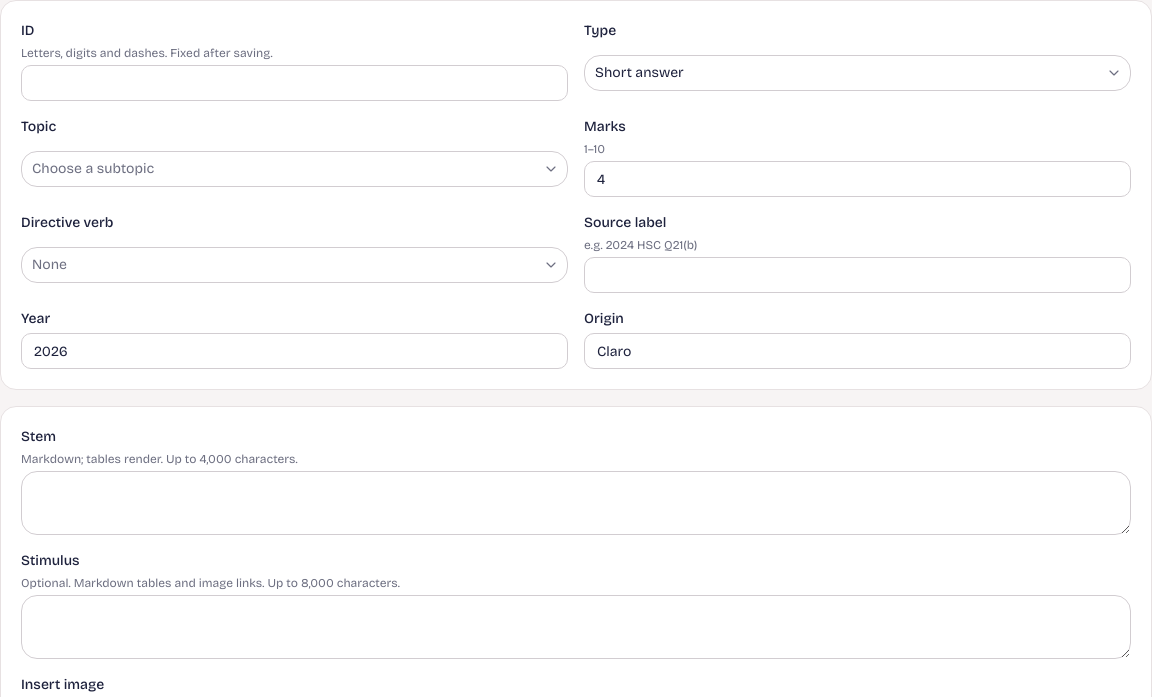
Test case: only shows Saved after a successful save, allowing retry after failure
Step 1. Type "new-question" into the field labelled "ID" → (294, 83), box [21,65,568,101]
Step 2. Type "Claro" into the field labelled "Source label" → (858, 275), box [584,257,1131,293]
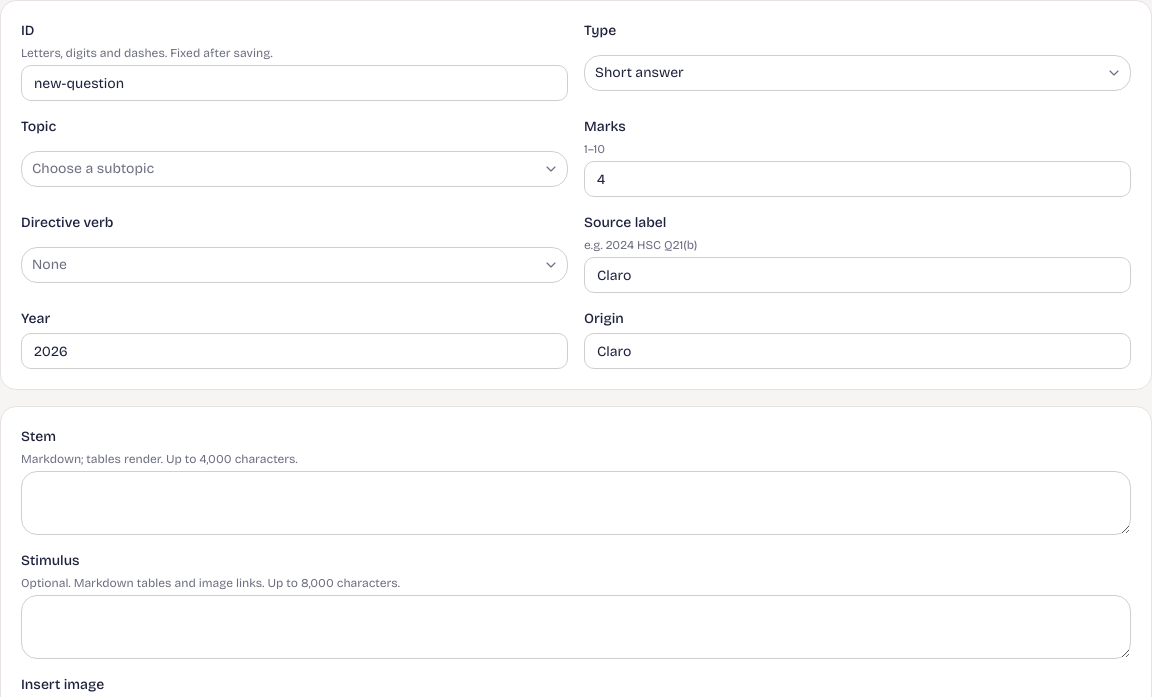
Step 3. Type "Explain inflation" into the text box labelled "Stem" → (576, 503), box [21,471,1131,535]
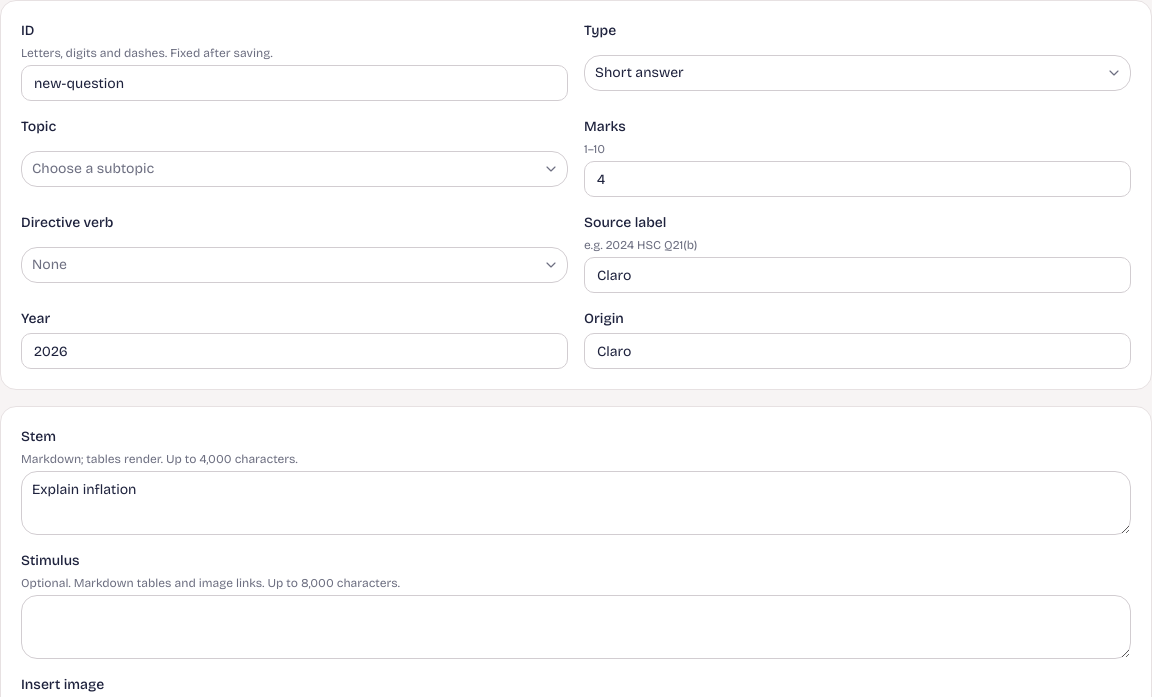
Step 4. Click the dropdown labelled "topic" → (93, 168), box [21,151,568,187]
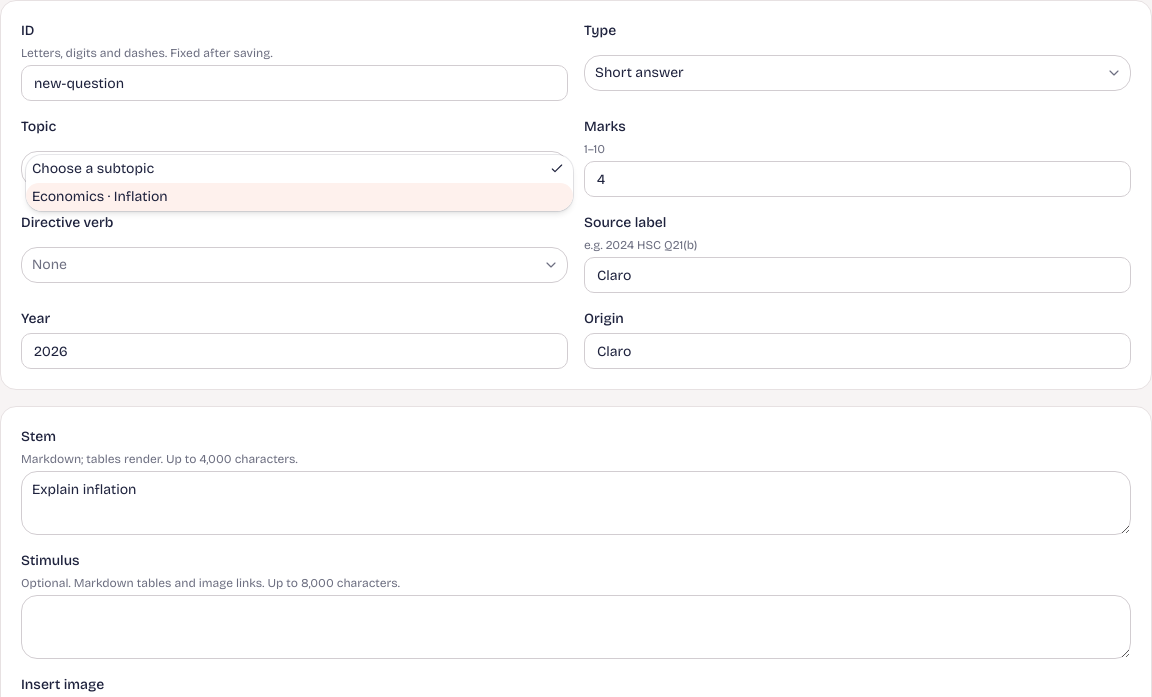
Step 5. Click the option "Economics · Inflation" → (100, 196), box [26,183,573,211]
(page scrolled)
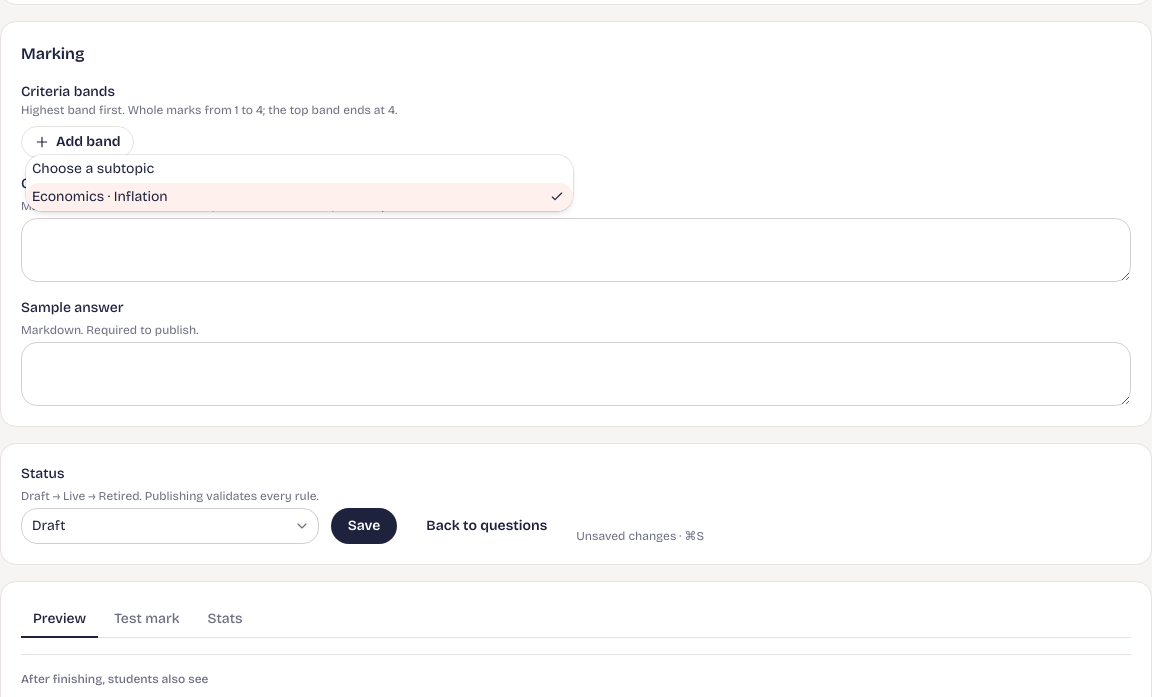
Step 6. Click the button "Save" → (364, 526), box [331,508,397,544]
(page scrolled)
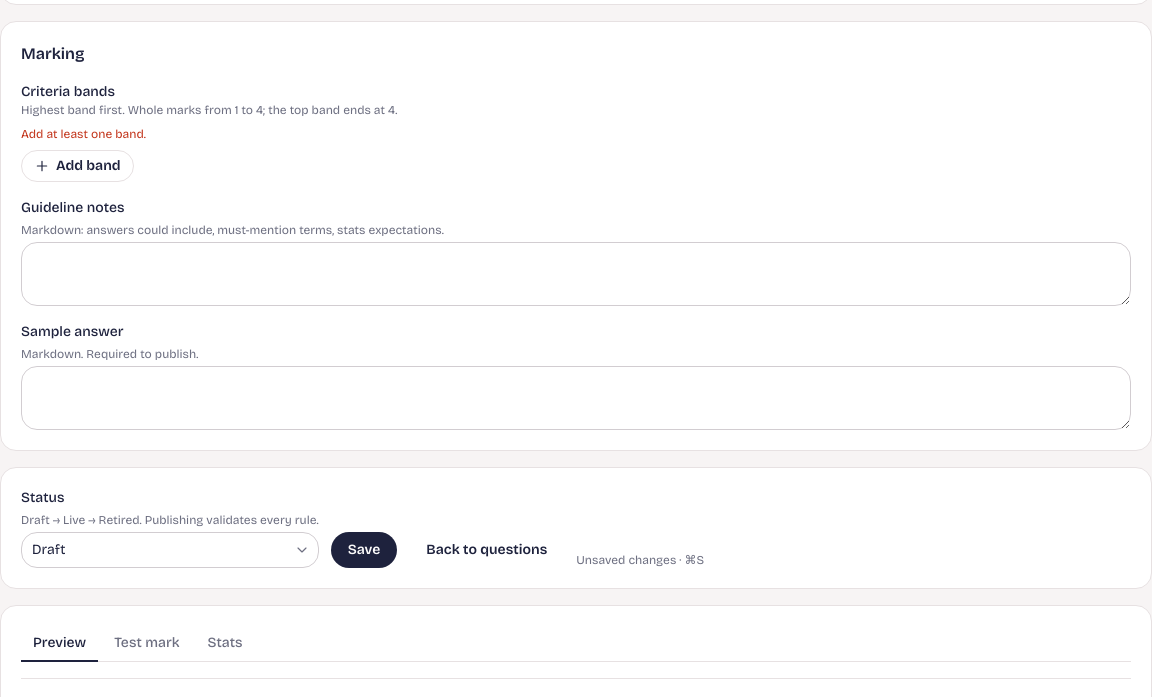
Expected: the text "Saved · ⌘S" is not shown
Step 7. Click the button "Save" → (364, 550), box [331,532,397,568]
(page scrolled)
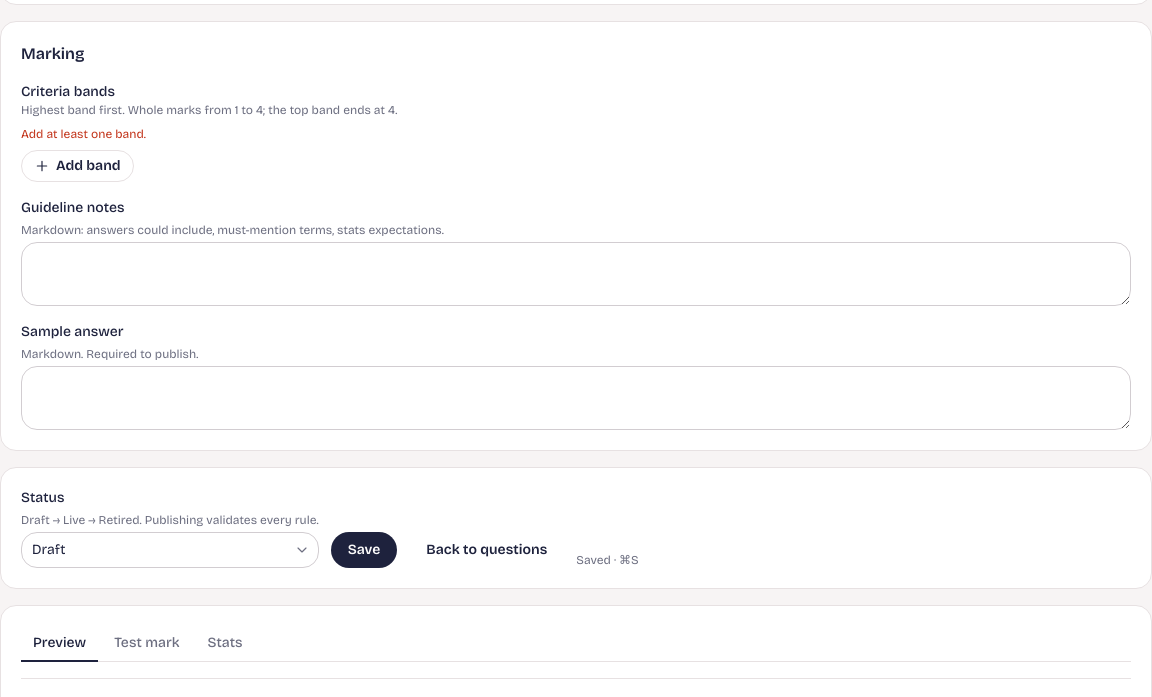
Expected: the text "Saved · ⌘S" is shown, [576,552,639,568]
